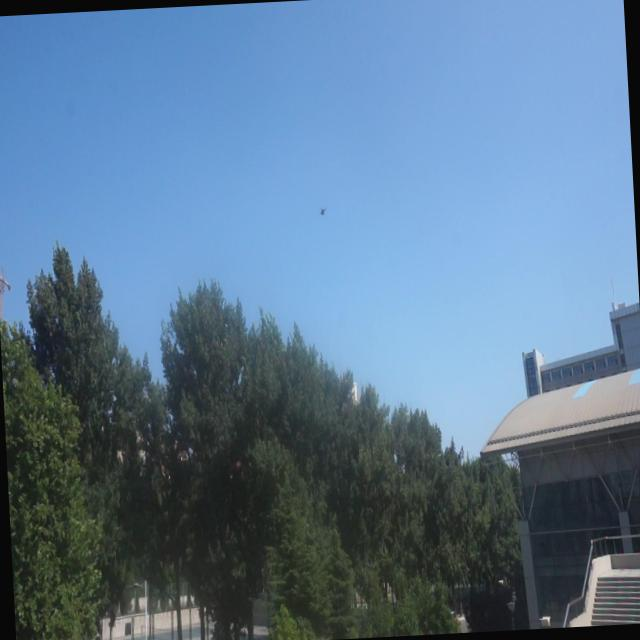drone: (317, 202, 328, 218)
